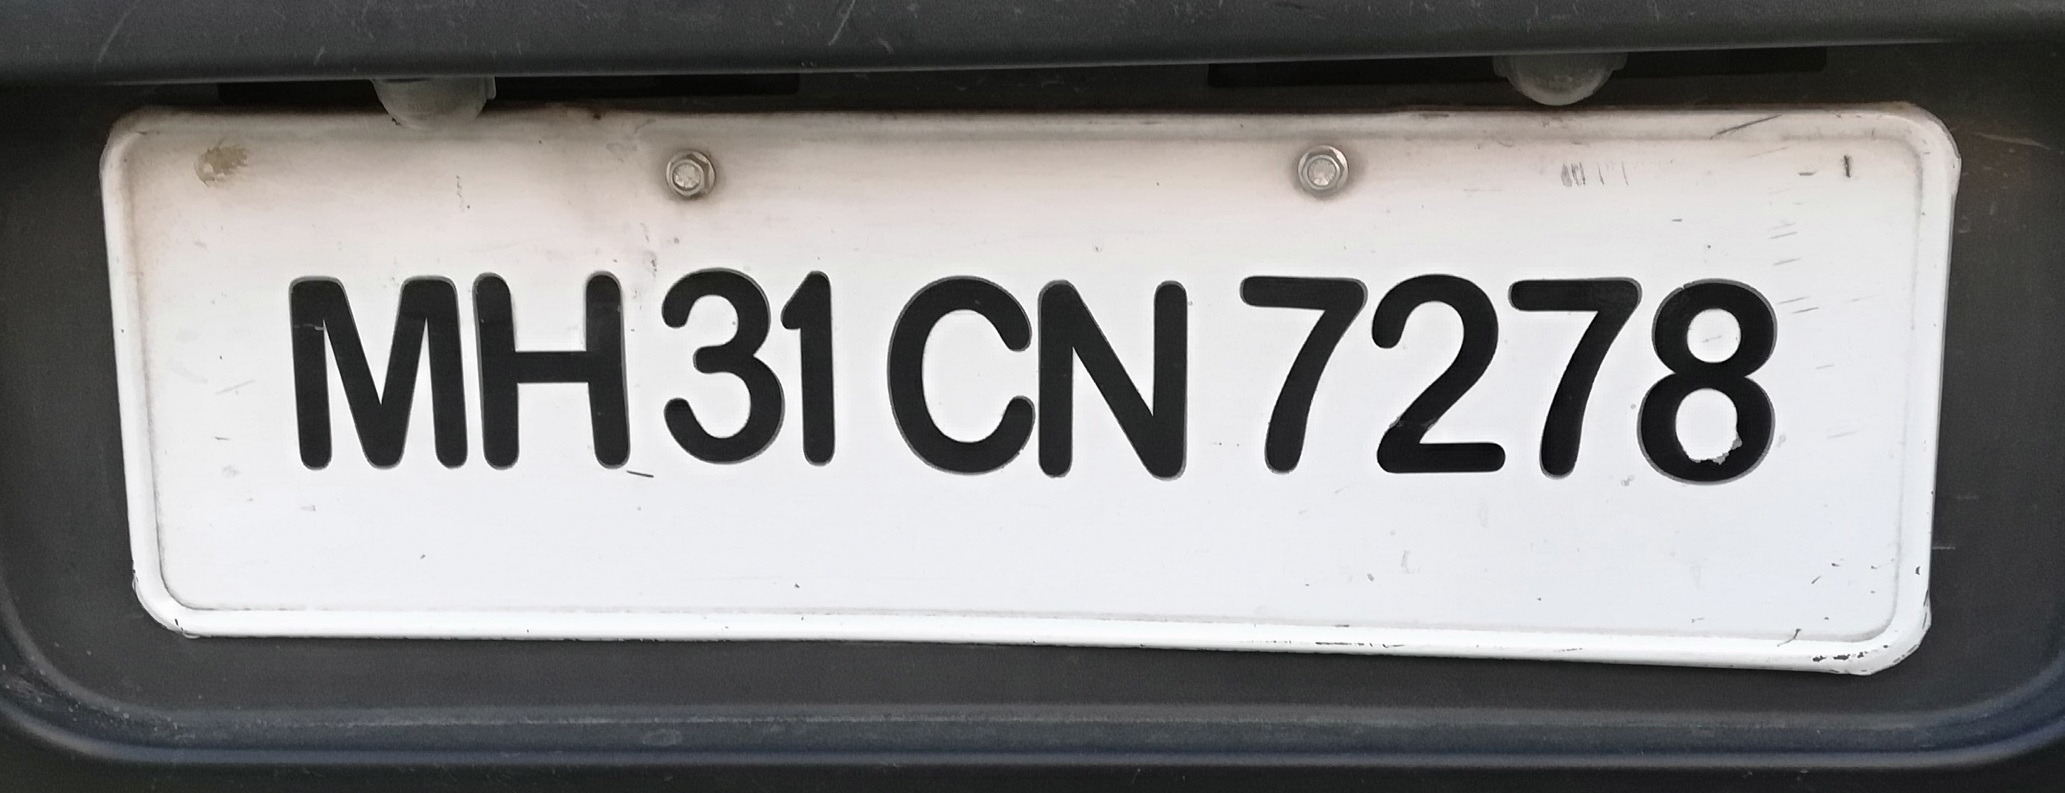numberplate: (97, 104, 1958, 687)
